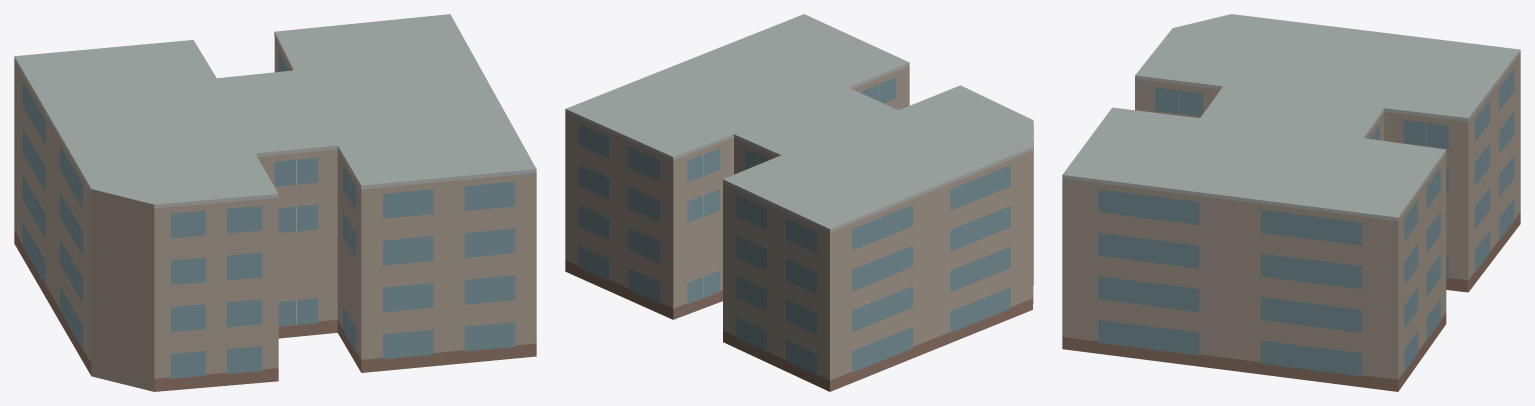
Rendered from survey-upis-33005912.glb.
The picture shows the model from 3 angles, left to right: view 1: azimuth 30°, elevation 25°; view 2: azimuth 150°, elevation 25°; view 3: azimuth 270°, elevation 25°; orthographic projection. The views are drawn at different scales.
Parts seen in each view (by area): view 1: survey-upis-33005912.tmp; view 2: survey-upis-33005912.tmp; view 3: survey-upis-33005912.tmp.
Boxes of the visible parts, <box> form: survey-upis-33005912.tmp: <box>14,14,536,391</box>; survey-upis-33005912.tmp: <box>565,14,1033,391</box>; survey-upis-33005912.tmp: <box>1062,14,1520,391</box>.
Bounding box in the file's own units: 29.96 × 11.95 × 28.49.
